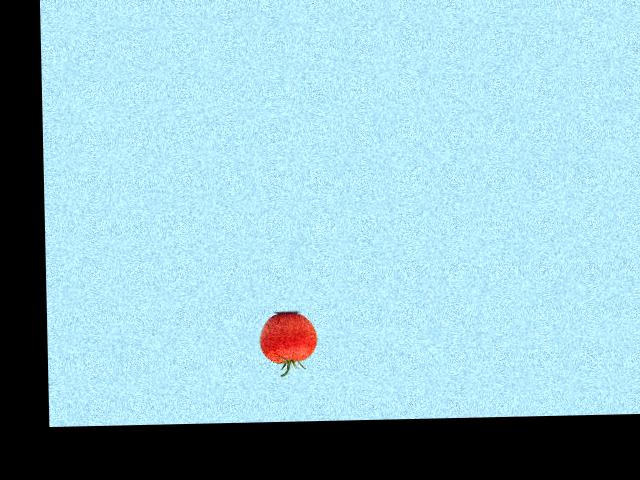tomato: (259, 312, 318, 363)
